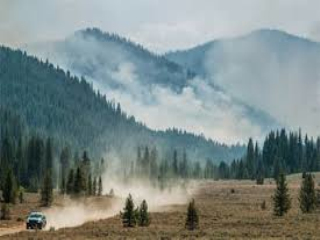smoke: (120, 75, 267, 147)
